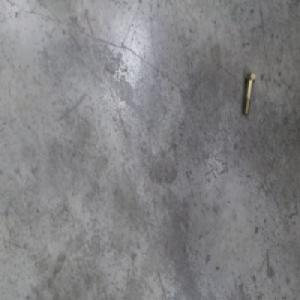Bolt: (239, 67, 252, 111)
